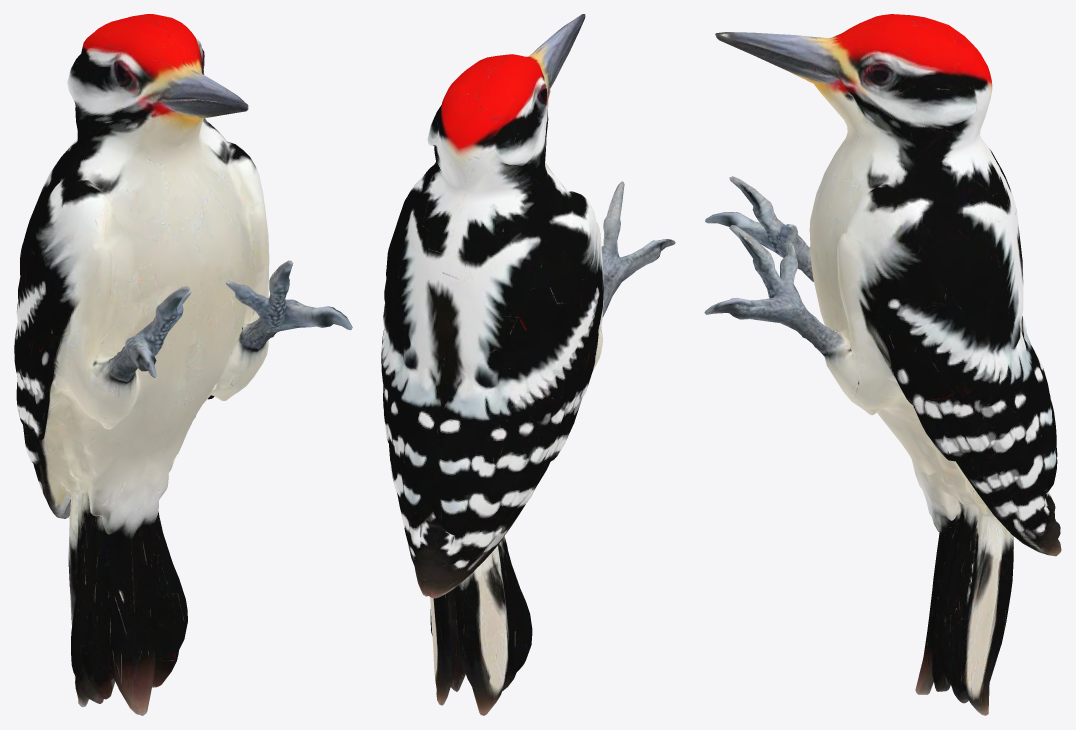
File: bird-grote-bonte-specht.glb
The picture shows the model from 3 angles, left to right: view 1: azimuth 30°, elevation 25°; view 2: azimuth 150°, elevation 25°; view 3: azimuth 270°, elevation 25°; orthographic projection. The views are drawn at different scales.
Bounding box in the file's own units: 0.6273 × 1.91 × 0.9027.
1 material, 1 textured.
